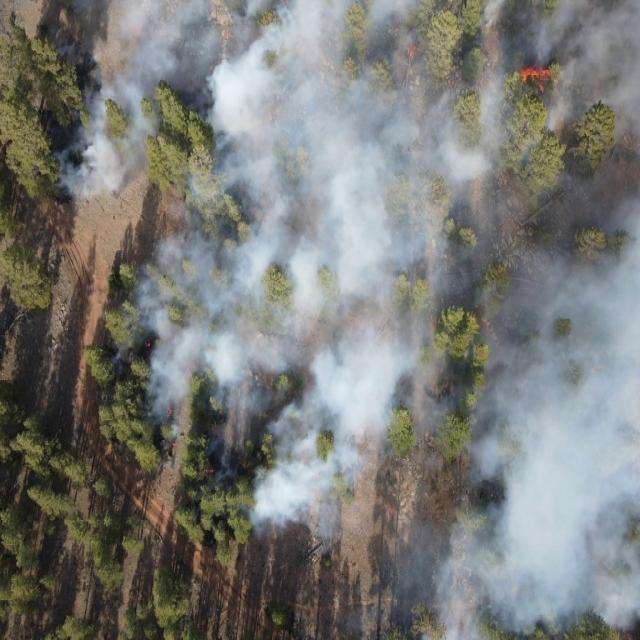fire: (517, 60, 559, 100), (588, 359, 606, 377), (407, 42, 421, 62), (584, 244, 597, 260), (204, 464, 218, 477), (112, 184, 124, 198), (144, 338, 155, 352), (166, 405, 176, 419)
smoke: (216, 0, 468, 475), (469, 0, 640, 632), (58, 0, 216, 201), (119, 236, 215, 435), (396, 504, 470, 640), (250, 475, 360, 555), (174, 200, 215, 235)
